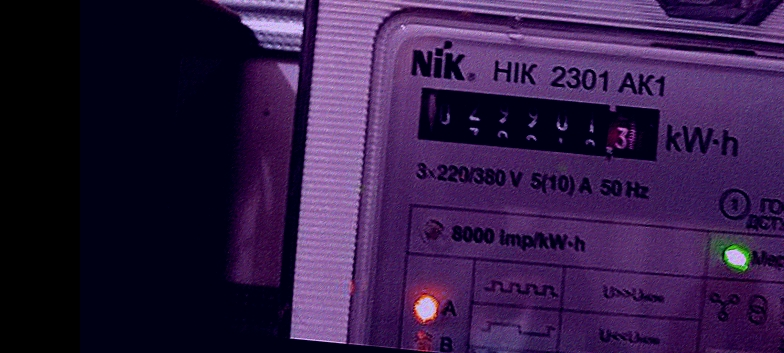0: (434, 97, 455, 126), (553, 103, 572, 133)
1: (584, 105, 600, 134)
2: (465, 94, 485, 123)
3: (612, 123, 631, 150)
9: (495, 97, 513, 126), (525, 101, 541, 129)
screen: (407, 75, 673, 172)
